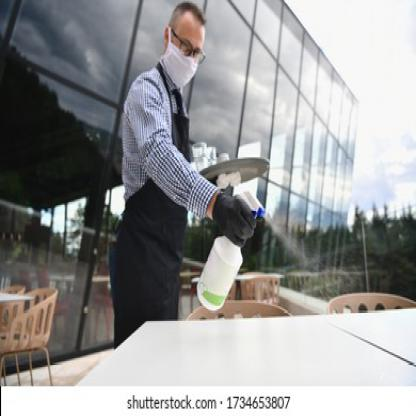with_gloves: (212, 192, 256, 248)
